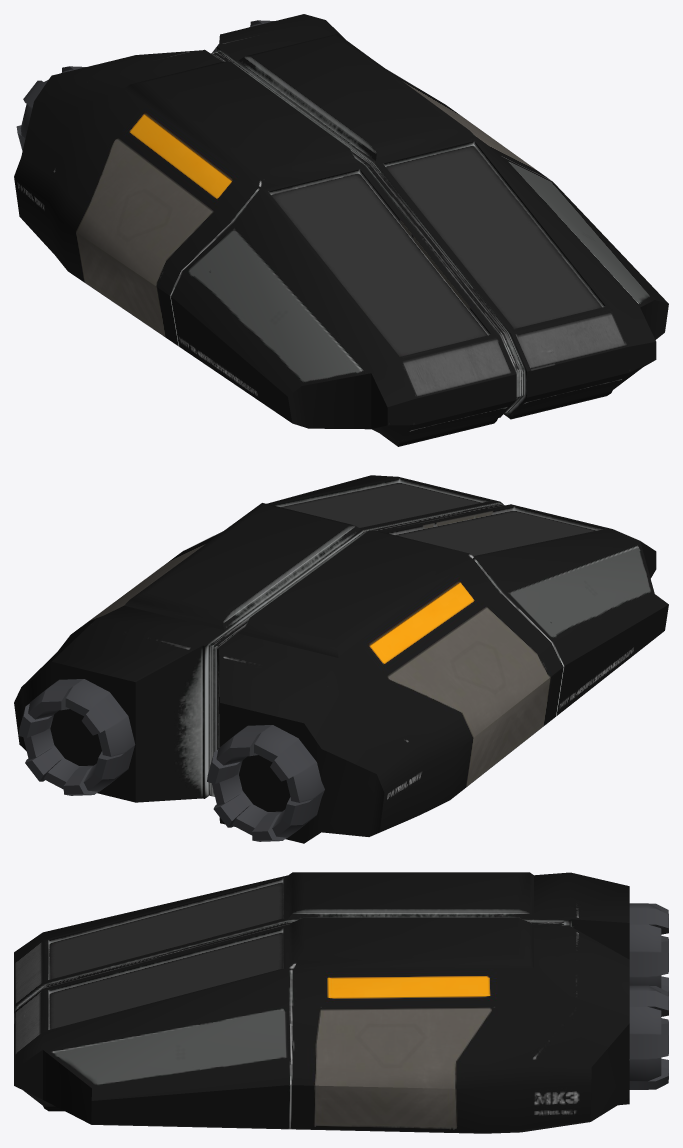
File: SM_CyberCar_JFG_GLOW.fbx
3 views of the same model, one above another, from view 1: azimuth 30°, elevation 25°; view 2: azimuth 150°, elevation 25°; view 3: azimuth 270°, elevation 25° (orthographic). The views are drawn at different scales.
Parts seen in each view (by area): view 1: SM_CyberCar_Base_JFG, SM_CyberCar_Propulsors_JFG; view 2: SM_CyberCar_Base_JFG, SM_CyberCar_Propulsors_JFG; view 3: SM_CyberCar_Base_JFG, SM_CyberCar_Propulsors_JFG.
Boxes of the visible parts, bbox=[...] form: SM_CyberCar_Base_JFG: bbox=[14, 14, 668, 446]; SM_CyberCar_Propulsors_JFG: bbox=[16, 20, 274, 150]; SM_CyberCar_Base_JFG: bbox=[14, 475, 668, 843]; SM_CyberCar_Propulsors_JFG: bbox=[18, 679, 324, 841]; SM_CyberCar_Base_JFG: bbox=[14, 872, 629, 1133]; SM_CyberCar_Propulsors_JFG: bbox=[629, 903, 668, 1089].
Bounding box in the file's own units: 335 × 158 × 533.
Materials: 2 (2 with a texture image).
